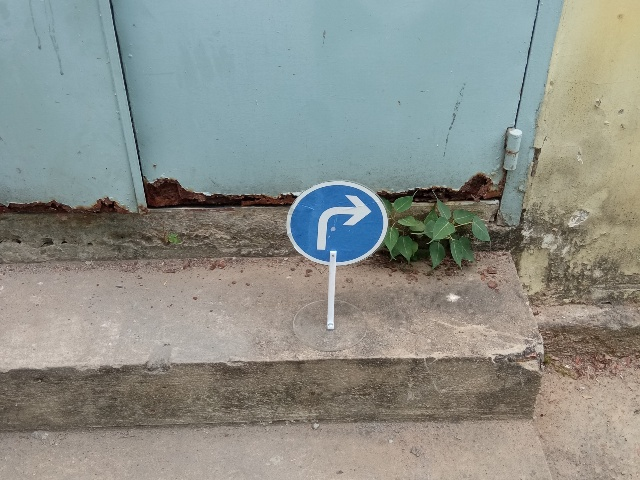Right_Sign: (287, 181, 390, 264)
